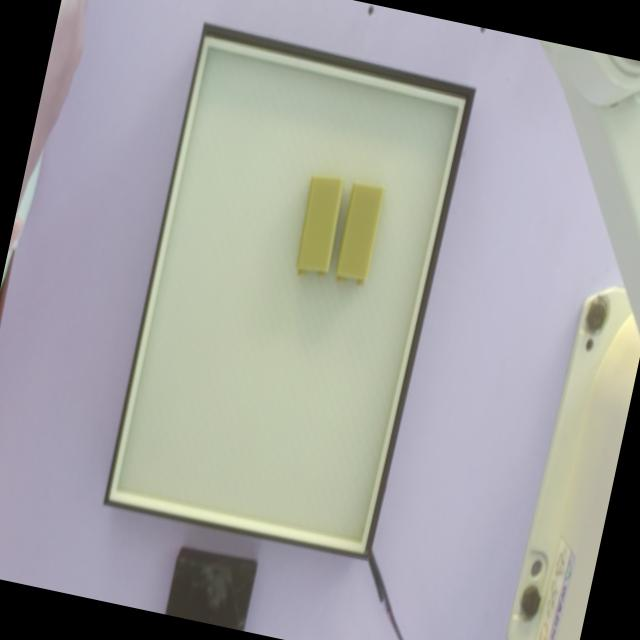bateria: (332, 181, 384, 288), (294, 175, 344, 282)
mesa: (102, 21, 476, 561)
